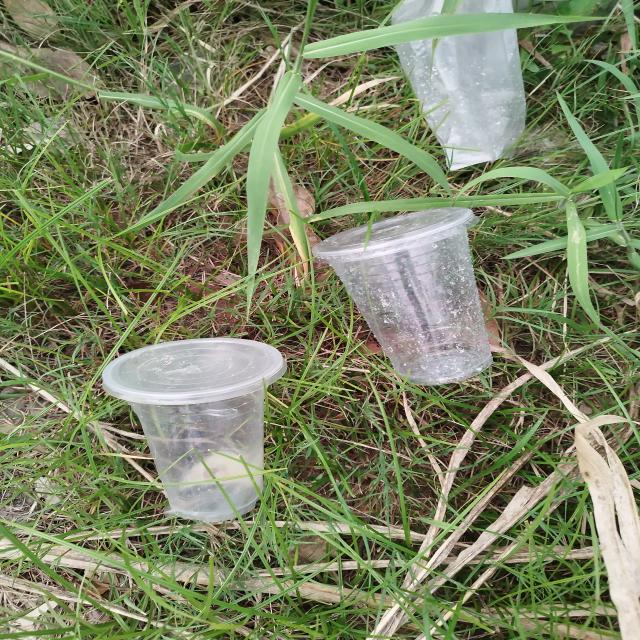packet: (390, 0, 527, 172)
plastic glass: (101, 338, 288, 522), (311, 206, 494, 386)
